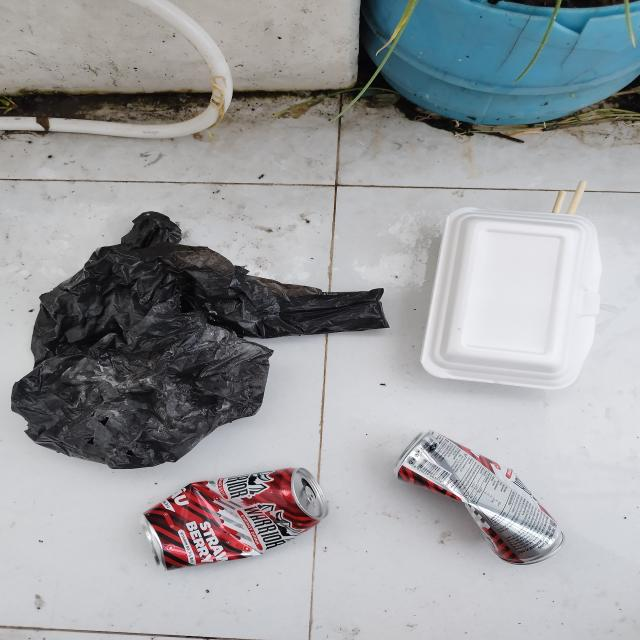bag: (10, 210, 392, 468)
can: (394, 430, 566, 567), (142, 468, 332, 571)
foam box: (422, 208, 600, 390)
